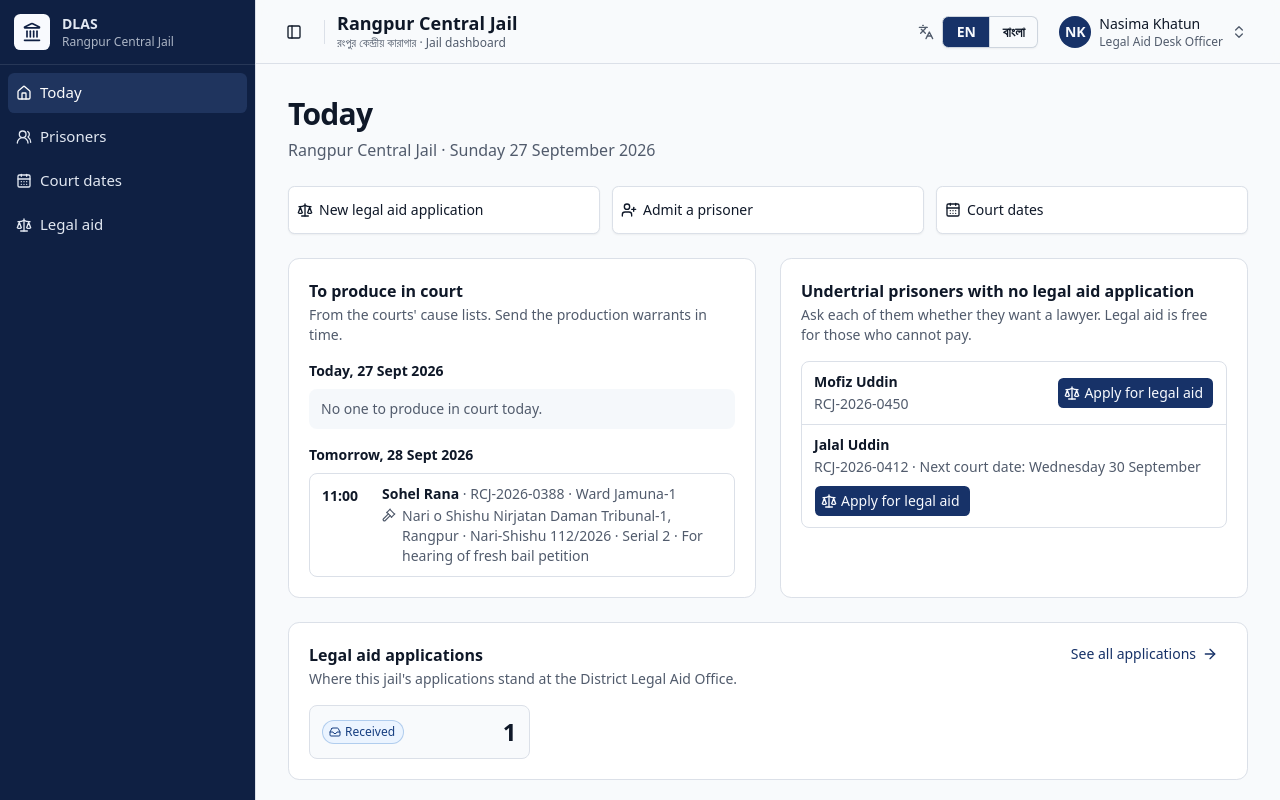
signing in › switches the dashboard to Bangla
This screenshot has width=1280, height=800.
What coordinates should you click on to do the following:
click the button "বাংলা"
I would click on:
 (1014, 32)
Its box is [990,16,1038,48].
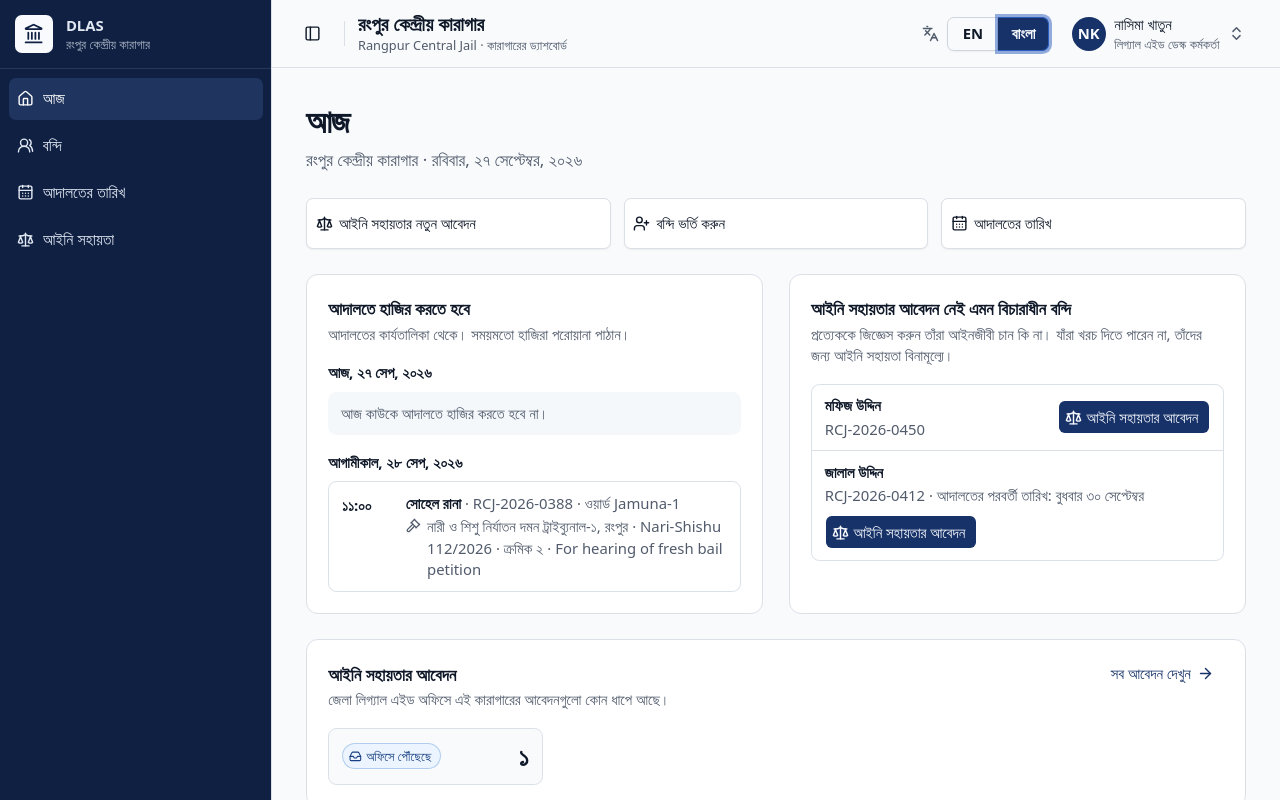
Check: the heading "আজ" is shown, box [306,99,349,142]
Check: the navigation bar named "প্রধান মেনু" shows "বন্দি", box [8,124,262,167]
